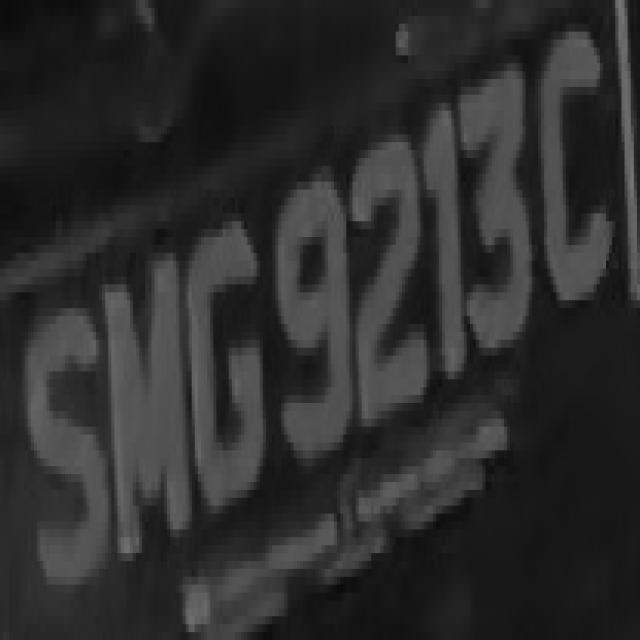1: (414, 110, 473, 434)
2: (343, 126, 430, 442)
3: (461, 48, 535, 380)
9: (266, 158, 352, 482)
C: (532, 24, 621, 332)
G: (182, 221, 278, 545)
M: (102, 245, 192, 569)
S: (19, 276, 108, 616)
